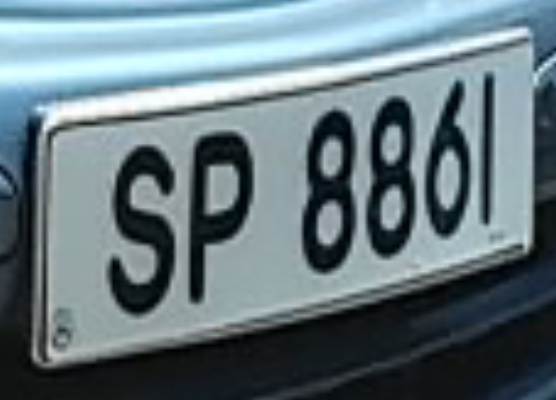1: (468, 64, 509, 239)
6: (421, 75, 475, 245)
8: (293, 106, 364, 282), (360, 86, 425, 267)
P: (178, 119, 265, 317)
S: (97, 137, 186, 327)
